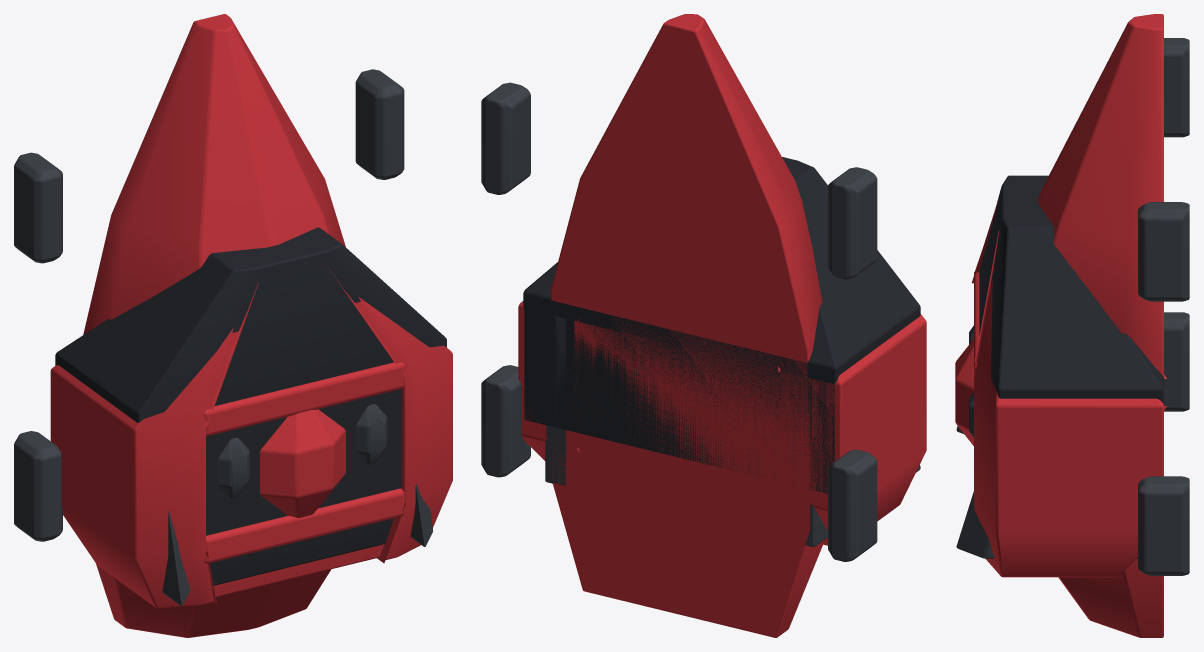
Rendered from CalfFront_Set09_Mantis.fbx.
3 views of the same model, side by side, from view 1: azimuth 30°, elevation 25°; view 2: azimuth 150°, elevation 25°; view 3: azimuth 270°, elevation 25° (orthographic). The views are drawn at different scales.
Visible parts, largest first — view 1: CalfFront_Set09_Mantis; view 2: CalfFront_Set09_Mantis; view 3: CalfFront_Set09_Mantis.
Boxes of the visible parts, box(x1,y1,x2,y2) form: CalfFront_Set09_Mantis: box(14, 14, 452, 637); CalfFront_Set09_Mantis: box(481, 14, 926, 637); CalfFront_Set09_Mantis: box(955, 14, 1189, 637).
Bounding box in the file's own units: 0.49 × 0.73 × 0.2716.
